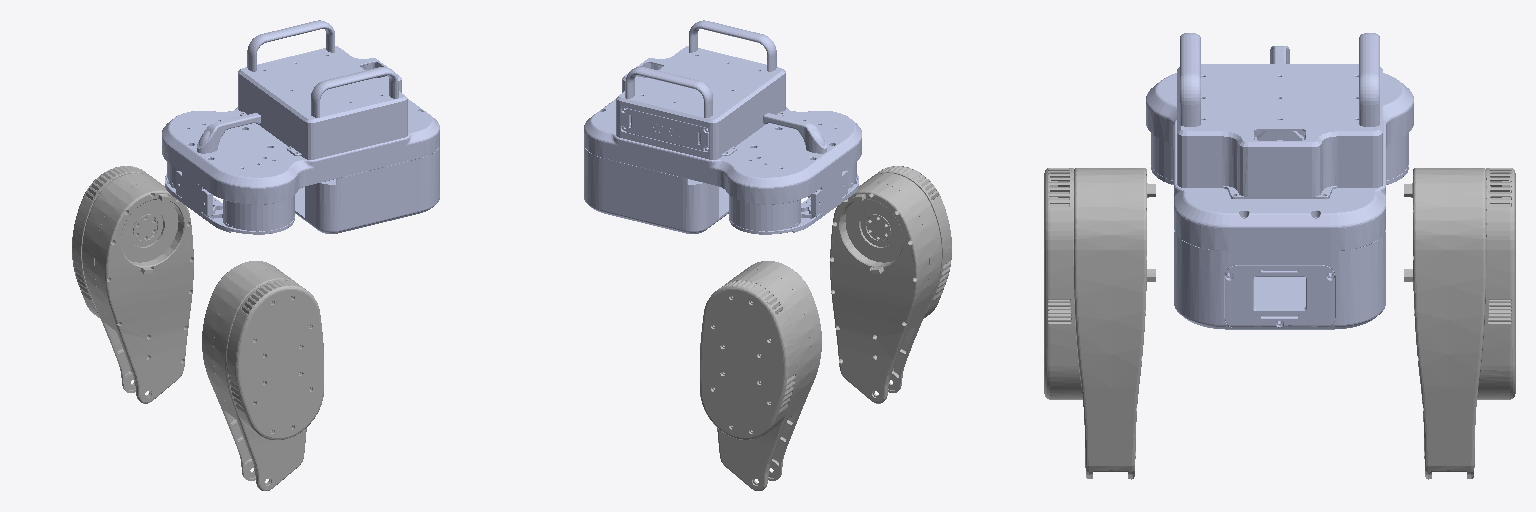
The robot description file, URDF, robot "birdy_v1_L":
<?xml version="1.0" ?>
<!-- =================================================================================== -->
<!-- |    This document was autogenerated by xacro from birdy_v1_L.xacro             | -->
<!-- |    EDITING THIS FILE BY HAND IS NOT RECOMMENDED                                 | -->
<!-- =================================================================================== -->
<robot name="birdy_v1_L">
<!--<link name="world">
</link>-->
<!--<joint name="joint_fixed_world" type="floating">
  <origin rpy="0 0 0" xyz="0 0 0.65"/>
  <parent link="world"/>
  <child link="link_trunk"/>
</joint>-->
  <link name="link_trunk">
    <inertial>
      <origin rpy="0 0 0" xyz="0.145 0 0.0274"/>
      <mass value="4.4369"/>
      <inertia ixx="17052550E-09" ixy="-17322E-09" ixz="-787313E-09" iyy="33900769E-09" iyz="-54759E-09" izz="37138656E-09"/>
    </inertial>
    <visual>
      <origin rpy="0 0 0" xyz="0 0 0"/>
      <geometry>
        <mesh filename="package://birdy_v1/meshes//TRUNK_LOWER_LIMB.STL"/>
      </geometry>
      <material name="">
        <color rgba="0.79216 0.81961 0.93333 1"/>
      </material>
    </visual>
  </link>
  <link name="link_left_hip1">
    <inertial>
      <origin rpy="0 0 0" xyz="0.0258 0.0003 0.0072"/>
      <mass value="0.4618"/>
      <inertia ixx="526520E-09" ixy="-2600E-09" ixz="-15578E-09" iyy="410196E-09" iyz="-650E-09" izz="288565E-09"/>
    </inertial>
    <visual>
      <origin rpy="0 0 0" xyz="0 0 0"/>
      <geometry>
        <mesh filename="package://birdy_v1/meshes//HIP_ROLL_MOTOR_left.STL"/>
      </geometry>
      <material name="">
        <color rgba="0.752941176470588 0.752941176470588 0.752941176470588 1"/>
      </material>
    </visual>
  </link>
  <joint name="joint_left_hip_yaw" type="revolute">
    <origin rpy="0 0 0" xyz="0.0 -0.061 -0.078"/>
    <parent link="link_trunk"/>
    <child link="link_left_hip1"/>
    <axis xyz="0 0 1"/>
    <limit effort="0" lower="-2.9845105" upper="2.9845105" velocity="0"/>
  </joint>
  <link name="link_left_hip2">
    <inertial>
      <origin rpy="0 0 0" xyz="0.0014  -0.0362 0.0"/>
      <mass value="0.4221"/>
      <inertia ixx="272070E-09" ixy="25300E-09" ixz="-22.5E-09" iyy="401974E-09" iyz="-141E-09" izz="312156E-09"/>
    </inertial>
    <visual>
      <origin rpy="0 0 0" xyz="0 0 0"/>
      <geometry>
        <mesh filename="package://birdy_v1/meshes//HIP_PITCH_MOTOR_left.STL"/>
      </geometry>
      <material name="">
        <color rgba="0.752941176470588 0.752941176470588 0.752941176470588 1"/>
      </material>
    </visual>
  </link>
  <joint name="joint_left_hip_roll" type="revolute">
    <origin rpy="0 0 0" xyz="-0.04 0 0"/>
    <parent link="link_left_hip1"/>
    <child link="link_left_hip2"/>
    <axis xyz="1 0 0"/>
    <limit effort="0" lower="-3.14" upper="3.14" velocity="0"/>
  </joint>
  <link name="link_left_thigh">
    <inertial>
      <origin rpy="0 0 0" xyz="0.0019 -0.0168 -0.0491"/>
      <mass value="1.2707"/>
      <inertia ixx="4720500E-09" ixy="21479E-09" ixz="-188300E-09" iyy="5119350E-09" iyz="-105700E-09" izz="1506438E-09"/>
    </inertial>
    <visual>
      <origin rpy="0 0 0" xyz="0 0 0"/>
      <geometry>
        <mesh filename="package://birdy_v1/meshes//THIGH_left.STL"/>
      </geometry>
      <material name="">
        <color rgba="0.752941176470588 0.752941176470588 0.752941176470588 1"/>
      </material>
    </visual>
  </link>
  <joint name="joint_left_thigh_pitch" type="revolute">
    <origin rpy="0 0 0 " xyz="0 -0.0715 0.0"/>
    <parent link="link_left_hip2"/>
    <child link="link_left_thigh"/>
    <axis xyz="0 1 0"/>
    <limit effort="0" lower="-3.14" upper="3.14" velocity="0"/>
  </joint>
  <link name="link_left_calf">
    <inertial>
      <origin rpy="0 0 0" xyz="0.02422 0.0 -0.103491"/>
      <mass value="0.218165"/>
      <inertia ixx="1353146E-09" ixy="-307E-09" ixz="13829E-09" iyy="1400170E-09" iyz="-624E-09" izz="102949E-09"/>
    </inertial>
    <visual>
      <origin rpy="0 0 0" xyz="0 0 0"/>
      <geometry>
        <mesh filename="package://birdy_v1/meshes//CALF_left.STL"/>
      </geometry>
      <material name="">
        <color rgba="0.752941176470588 0.752941176470588 0.752941176470588 1"/>
      </material>
    </visual>
  </link>
  <joint name="joint_left_calf_pitch" type="revolute">
    <origin rpy="0 0 0" xyz="0 0 -0.20"/>
    <parent link="link_left_thigh"/>
    <child link="link_left_calf"/>
    <axis xyz="0 1 0"/>
    <limit effort="0" lower="-3.14" upper="3.14" velocity="0"/>
  </joint>
  <link name="link_left_foot">
    <inertial>
      <origin rpy="0 0 0" xyz="0.0065 0 -0.044826"/>
      <mass value="0.150205"/>
      <inertia ixx="104290E-09" ixy="-327E-09" ixz="86545E-09" iyy="283559E-09" iyz="-140E-09" izz="209594E-09"/>
    </inertial>
    <visual>
      <origin rpy="0 0 0" xyz="0 0 0"/>
      <geometry>
        <mesh filename="package://birdy_v1/meshes//FOOT_HEEL.STL"/>
      </geometry>
      <material name="">
        <color rgba="0.752941176470588 0.752941176470588 0.752941176470588 1"/>
      </material>
    </visual>
    <visual>
      <origin rpy="0 0 0" xyz="0 0 0"/>
      <geometry>
        <mesh filename="package://birdy_v1/meshes//FOOT_TOE.STL"/>
      </geometry>
      <material name="">
        <color rgba="0.752941176470588 0.752941176470588 0.752941176470588 1"/>
      </material>
    </visual>
    <visual>
      <origin rpy="0 0 0" xyz="0 0 0"/>
      <geometry>
        <mesh filename="package://birdy_v1/meshes//FOOT_SHOE.STL"/>
      </geometry>
      <material name="">
        <color rgba="0.752941176470588 0.752941176470588 0.752941176470588 1"/>
      </material>
    </visual>
  </link>
  <joint name="joint_left_ankle" type="revolute">
    <origin rpy="0 0 0" xyz="0 0 -0.25"/>
    <parent link="link_left_calf"/>
    <child link="link_left_foot"/>
    <axis xyz="0 1 0"/>
    <limit effort="0" lower="-3.14" upper="3.14" velocity="0"/>
  </joint>
  <link name="link_right_hip1">
    <inertial>
      <origin rpy="0 0 0" xyz="0.0258 -0.0003 0.0072"/>
      <mass value="0.4618"/>
      <inertia ixx="526520E-09" ixy="2600E-09" ixz="-15578E-09" iyy="410196E-09" iyz="650E-09" izz="288565E-09"/>
    </inertial>
    <visual>
      <origin rpy="0 0 0" xyz="0 0 0"/>
      <geometry>
        <mesh filename="package://birdy_v1/meshes//HIP_ROLL_MOTOR_right.STL"/>
      </geometry>
      <material name="">
        <color rgba="0.752941176470588 0.752941176470588 0.752941176470588 1"/>
      </material>
    </visual>
  </link>
  <joint name="joint_right_hip_yaw" type="revolute">
    <origin rpy="0 0 0" xyz="0.0  0.061 -0.078"/>
    <parent link="link_trunk"/>
    <child link="link_right_hip1"/>
    <axis xyz="0 0 1"/>
    <limit effort="0" lower="-2.9845105" upper="2.9845105" velocity="0"/>
  </joint>
  <link name="link_right_hip2">
    <inertial>
      <origin rpy="0 0 0" xyz="0.0014 0.0362 0.0"/>
      <mass value="0.4221"/>
      <inertia ixx="272070E-09" ixy="-25300E-09" ixz="22.5E-09" iyy="401974E-09" iyz="-141E-09" izz="312156E-09"/>
    </inertial>
    <visual>
      <origin rpy="0 0 0" xyz="0 0 0"/>
      <geometry>
        <mesh filename="package://birdy_v1/meshes//HIP_PITCH_MOTOR_right.STL"/>
      </geometry>
      <material name="">
        <color rgba="0.752941176470588 0.752941176470588 0.752941176470588 1"/>
      </material>
    </visual>
  </link>
  <joint name="joint_right_hip_roll" type="revolute">
    <origin rpy="0 0 0" xyz="-0.04 0 0"/>
    <parent link="link_right_hip1"/>
    <child link="link_right_hip2"/>
    <axis xyz="1 0 0"/>
    <limit effort="0" lower="-3.14" upper="3.14" velocity="0"/>
  </joint>
  <link name="link_right_thigh">
    <inertial>
      <origin rpy="0 0 0" xyz="0.0019 0.0168 -0.0491"/>
      <mass value="1.2707"/>
      <inertia ixx="4720500E-09" ixy="-21479E-09" ixz="-188300E-09" iyy="5119350E-09" iyz="105700E-09" izz="1506438E-09"/>
    </inertial>
    <visual>
      <origin rpy="0 0 0" xyz="0 0 0"/>
      <geometry>
        <mesh filename="package://birdy_v1/meshes//THIGH_right.STL"/>
      </geometry>
      <material name="">
        <color rgba="0.752941176470588 0.752941176470588 0.752941176470588 1"/>
      </material>
    </visual>
  </link>
  <joint name="joint_right_thigh_pitch" type="revolute">
    <origin rpy="0 0 0 " xyz="0  0.0715 0.0"/>
    <parent link="link_right_hip2"/>
    <child link="link_right_thigh"/>
    <axis xyz="0 1 0"/>
    <limit effort="0" lower="-3.14" upper="3.14" velocity="0"/>
  </joint>
  <link name="link_right_calf">
    <inertial>
      <origin rpy="0 0 0" xyz="0.02422 0.0 -0.103491"/>
      <mass value="0.21302"/>
      <inertia ixx="1353146E-09" ixy="307E-09" ixz="13829E-09" iyy="1400170E-09" iyz="624E-09" izz="102949E-09"/>
    </inertial>
    <visual>
      <origin rpy="0 0 0" xyz="0 0 0"/>
      <geometry>
        <mesh filename="package://birdy_v1/meshes//CALF_right.STL"/>
      </geometry>
      <material name="">
        <color rgba="0.752941176470588 0.752941176470588 0.752941176470588 1"/>
      </material>
    </visual>
  </link>
  <joint name="joint_right_calf_pitch" type="revolute">
    <origin rpy="0 0 0" xyz="0 0 -0.20"/>
    <parent link="link_right_thigh"/>
    <child link="link_right_calf"/>
    <axis xyz="0 1 0"/>
    <limit effort="0" lower="-3.14" upper="3.14" velocity="0"/>
  </joint>
  <link name="link_right_foot">
    <inertial>
      <origin rpy="0 0 0" xyz="0.0065 0 -0.044826"/>
      <mass value="0.150205"/>
      <inertia ixx="104290E-09" ixy="-327E-09" ixz="86545E-09" iyy="283559E-09" iyz="-140E-09" izz="209594E-09"/>
    </inertial>
    <visual>
      <origin rpy="0 0 0" xyz="0 0 0"/>
      <geometry>
        <mesh filename="package://birdy_v1/meshes//FOOT_HEEL.STL"/>
      </geometry>
      <material name="">
        <color rgba="0.752941176470588 0.752941176470588 0.752941176470588 1"/>
      </material>
    </visual>
    <visual>
      <origin rpy="0 0 0" xyz="0 0 0"/>
      <geometry>
        <mesh filename="package://birdy_v1/meshes//FOOT_TOE.STL"/>
      </geometry>
      <material name="">
        <color rgba="0.752941176470588 0.752941176470588 0.752941176470588 1"/>
      </material>
    </visual>
    <visual>
      <origin rpy="0 0 0" xyz="0 0 0"/>
      <geometry>
        <mesh filename="package://birdy_v1/meshes//FOOT_SHOE.STL"/>
      </geometry>
      <material name="">
        <color rgba="0.752941176470588 0.752941176470588 0.752941176470588 1"/>
      </material>
    </visual>
  </link>
  <joint name="joint_right_ankle" type="revolute">
    <origin rpy="0 0 0" xyz="0 0 -0.25"/>
    <parent link="link_right_calf"/>
    <child link="link_right_foot"/>
    <axis xyz="0 1 0"/>
    <limit effort="0" lower="-3.14" upper="3.14" velocity="0"/>
  </joint>
</robot>

--- Facts derived from the render (not from the file) ---
Views: 3 orthographic renders of the robot side by side, from view 1: azimuth 30°, elevation 25°; view 2: azimuth 150°, elevation 25°; view 3: azimuth 270°, elevation 25°.
Robot: birdy_v1_L — 11 links, 10 joints (10 revolute); root link link_trunk; default pose: all joints at 0.
Links seen in each view (by area): view 1: link_trunk, link_right_thigh, link_left_thigh; view 2: link_trunk, link_left_thigh, link_right_thigh; view 3: link_trunk, link_left_thigh, link_right_thigh.
Link boxes in pixels (bbox=[...]): link_trunk: bbox=[162, 20, 439, 234]; link_right_thigh: bbox=[72, 166, 193, 403]; link_left_thigh: bbox=[202, 261, 323, 490]; link_trunk: bbox=[584, 20, 861, 234]; link_left_thigh: bbox=[830, 166, 951, 403]; link_right_thigh: bbox=[700, 261, 821, 490]; link_trunk: bbox=[1146, 33, 1413, 329]; link_left_thigh: bbox=[1044, 168, 1155, 479]; link_right_thigh: bbox=[1404, 168, 1515, 479].
Bounding box of the posed robot: 0.3356 × 0.368 × 0.4391 m (x, y, z).
Meshes: 12 distinct files referenced, 3 mesh visuals loaded (3 binary STL); not drawn: 12 (reference not matched to a file when rendering).